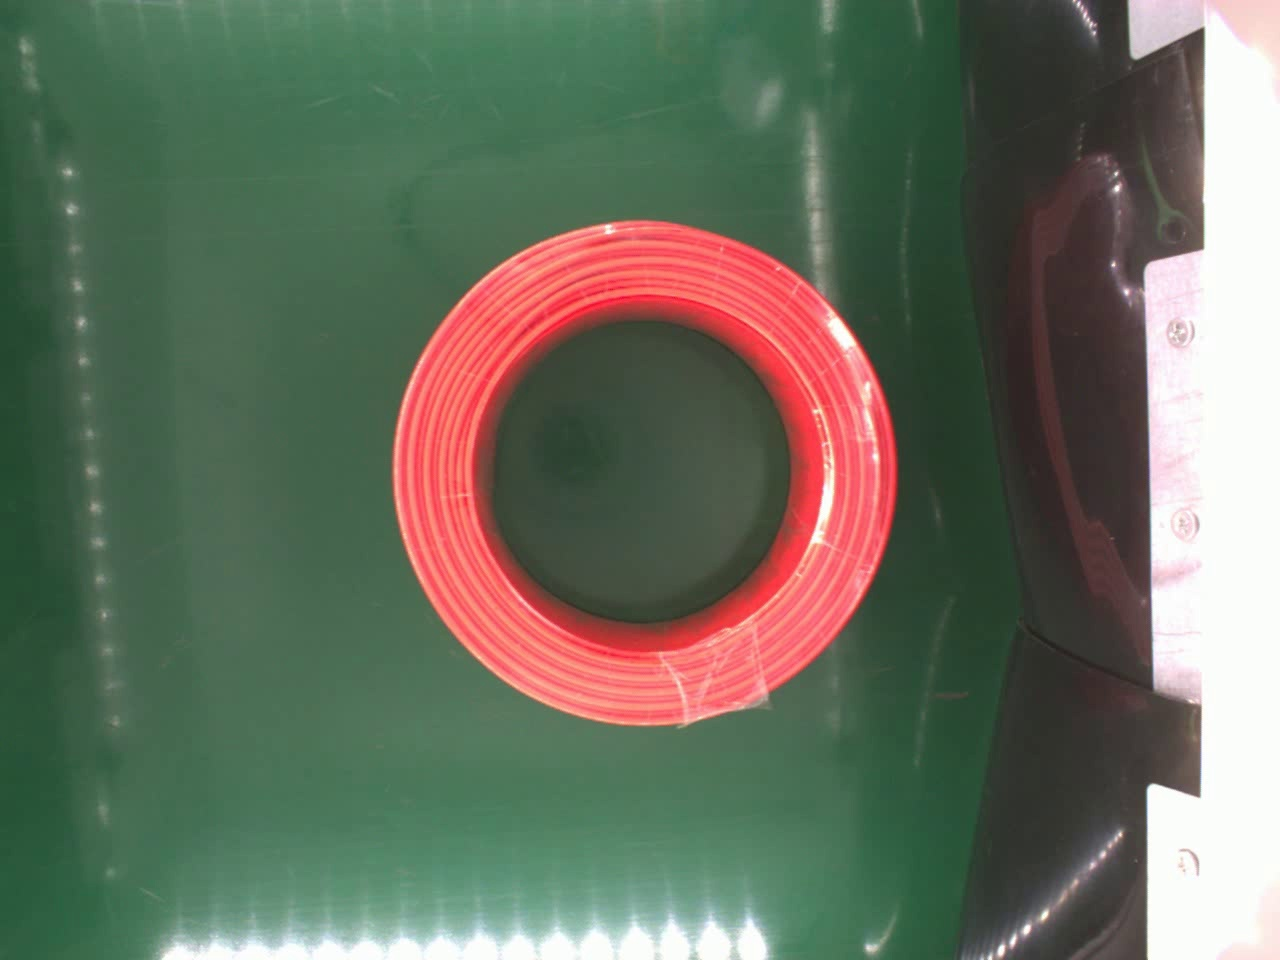red: (391, 217, 897, 726)
